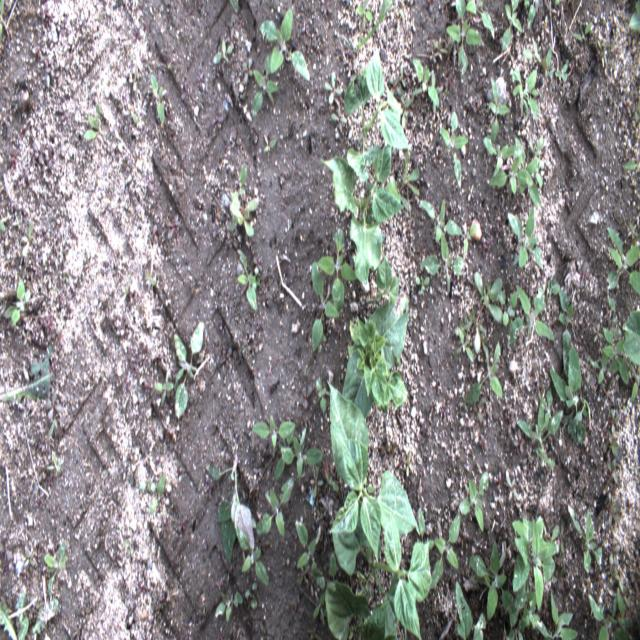crop: (328, 381, 419, 558), (331, 502, 433, 639), (319, 146, 404, 285), (344, 48, 412, 186), (343, 300, 409, 416), (326, 582, 399, 640), (364, 256, 408, 312), (622, 310, 640, 366)
weed: (548, 326, 592, 447), (206, 463, 254, 563), (511, 516, 558, 611), (258, 7, 310, 82), (518, 382, 563, 468), (468, 539, 514, 622), (338, 0, 396, 57), (172, 320, 205, 417), (446, 0, 483, 81), (319, 228, 356, 308), (418, 198, 463, 260), (253, 474, 296, 538), (508, 285, 553, 346), (0, 585, 47, 639), (566, 505, 602, 575), (605, 228, 640, 299), (438, 112, 469, 188), (310, 262, 338, 346), (466, 342, 502, 407), (507, 209, 544, 270), (294, 519, 326, 589), (432, 514, 461, 590), (515, 137, 542, 212), (252, 42, 279, 116), (536, 592, 579, 638), (236, 526, 268, 586), (460, 472, 489, 534), (421, 255, 464, 296), (456, 581, 485, 639), (487, 76, 511, 146), (236, 248, 262, 312), (3, 371, 53, 404), (474, 271, 504, 326), (412, 57, 441, 111), (604, 328, 630, 388), (490, 158, 532, 194), (252, 413, 296, 447), (4, 277, 32, 329), (284, 440, 324, 476), (511, 68, 538, 121), (587, 594, 619, 638), (44, 541, 69, 596), (464, 0, 496, 39), (483, 140, 524, 169), (501, 0, 523, 50), (398, 152, 422, 196), (616, 587, 636, 637), (214, 590, 243, 624), (516, 592, 538, 635), (274, 435, 294, 482), (230, 207, 255, 240), (148, 472, 166, 516), (83, 101, 102, 141), (150, 72, 164, 126), (498, 290, 518, 326), (588, 353, 608, 387), (471, 316, 487, 358), (29, 345, 52, 374), (212, 38, 235, 66), (602, 493, 622, 524), (457, 328, 474, 363), (21, 218, 35, 260), (233, 161, 247, 203), (607, 294, 621, 336), (504, 604, 520, 640), (324, 72, 341, 105), (355, 0, 373, 31), (559, 289, 574, 326), (572, 19, 594, 44), (44, 391, 64, 418), (154, 379, 174, 406), (429, 37, 449, 63), (505, 469, 520, 503), (165, 217, 183, 245), (540, 45, 554, 81), (522, 0, 538, 31), (309, 466, 323, 501), (324, 469, 342, 496), (314, 377, 326, 417), (593, 38, 608, 69), (522, 39, 542, 62), (331, 105, 348, 131), (244, 583, 259, 612), (627, 0, 640, 33), (312, 593, 325, 625), (603, 431, 619, 457), (548, 273, 561, 305), (629, 360, 638, 406), (119, 274, 131, 308), (414, 274, 431, 298), (460, 310, 477, 334), (464, 222, 475, 259), (122, 103, 139, 124), (401, 95, 412, 127), (606, 456, 618, 485), (626, 214, 639, 240), (607, 408, 620, 434), (122, 536, 134, 564), (36, 599, 60, 613), (138, 476, 156, 494), (0, 0, 6, 52), (555, 56, 568, 80), (608, 124, 615, 167), (300, 386, 312, 411), (242, 57, 252, 85), (384, 440, 396, 463), (49, 452, 61, 474), (592, 323, 605, 343), (553, 569, 564, 592), (514, 430, 525, 452), (608, 566, 619, 588), (610, 544, 621, 566), (262, 138, 277, 154), (247, 338, 259, 358), (623, 160, 640, 174), (242, 199, 260, 212), (403, 447, 411, 476), (298, 567, 310, 586), (388, 76, 402, 92), (538, 136, 544, 173), (507, 412, 516, 436), (460, 391, 469, 413), (307, 626, 321, 640), (24, 548, 34, 567), (400, 64, 407, 90), (144, 272, 156, 287), (419, 509, 425, 538), (133, 64, 139, 92), (496, 469, 503, 493), (466, 181, 474, 202), (48, 417, 56, 437), (228, 0, 240, 13), (22, 329, 31, 345), (551, 523, 559, 540), (634, 100, 640, 122), (561, 521, 565, 553), (308, 577, 314, 597), (0, 218, 7, 234), (552, 0, 566, 7), (433, 56, 439, 70), (166, 63, 174, 73), (427, 541, 435, 551), (302, 363, 308, 376), (228, 221, 235, 232), (537, 171, 542, 186)
